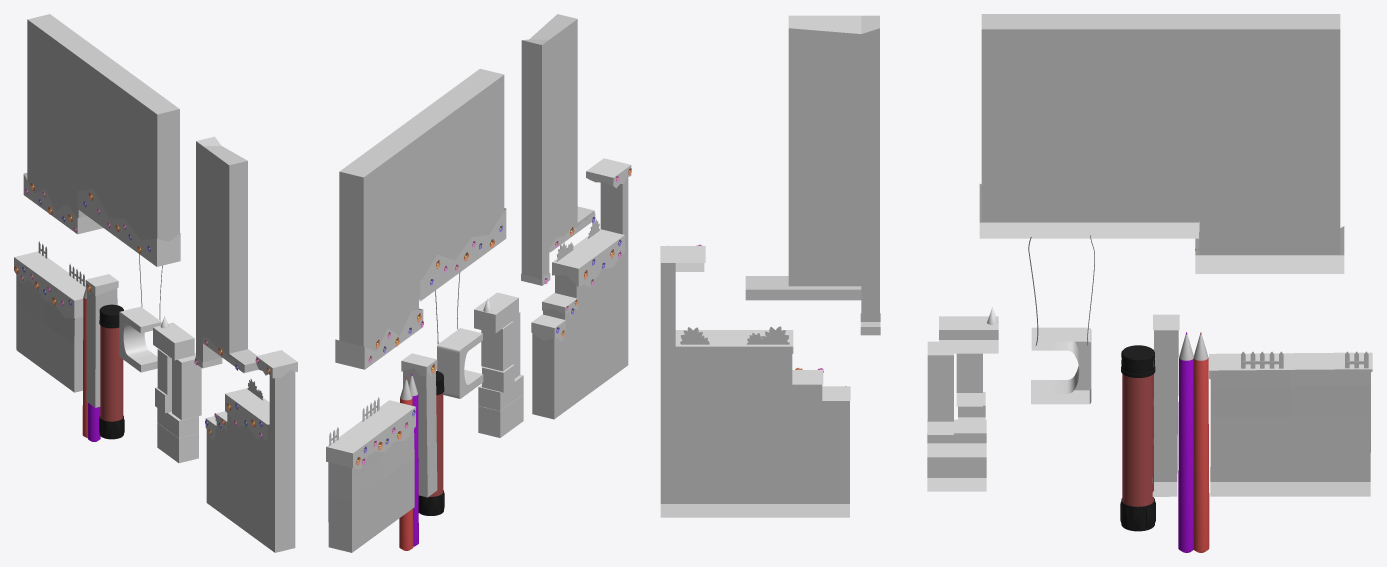
Rendered from Pantalla-2_Def.fbx.
3 renders of one model, left to right at view 1: azimuth 30°, elevation 25°; view 2: azimuth 150°, elevation 25°; view 3: azimuth 270°, elevation 25°, orthographic. The views are drawn at different scales.
Visible parts, largest first — view 1: Pantalla_2, Cube.001, Pieza_Geométrica.05, Cola.001, Cola, Florecilla.056; view 2: Pantalla_2, Cube.001, Pieza_Geométrica.05, Cola, Cola.001, Florecilla.056; view 3: Pantalla_2, Cube.001, Pieza_Geométrica.05, Cola, Cola.001.
Boxes of the visible parts, x1=… form: Pantalla_2: x1=16, y1=14, x2=295, y2=552; Cube.001: x1=14, y1=173, x2=297, y2=440; Pieza_Geométrica.05: x1=119, y1=306, x2=201, y2=463; Cola.001: x1=99, y1=304, x2=124, y2=439; Cola: x1=82, y1=278, x2=100, y2=441; Florecilla.056: x1=14, y1=183, x2=270, y2=437; Pantalla_2: x1=328, y1=14, x2=628, y2=552; Cube.001: x1=326, y1=158, x2=631, y2=469; Pieza_Geométrica.05: x1=437, y1=292, x2=523, y2=437; Cola: x1=399, y1=374, x2=418, y2=550; Cola.001: x1=418, y1=371, x2=444, y2=515; Florecilla.056: x1=356, y1=168, x2=631, y2=465; Pantalla_2: x1=660, y1=14, x2=1370, y2=517; Cube.001: x1=660, y1=184, x2=1372, y2=400; Pieza_Geométrica.05: x1=927, y1=316, x2=1091, y2=491; Cola: x1=1178, y1=332, x2=1209, y2=552; Cola.001: x1=1120, y1=345, x2=1155, y2=531.
Size of the model in its own units: 589 by 7350 by 8969.
